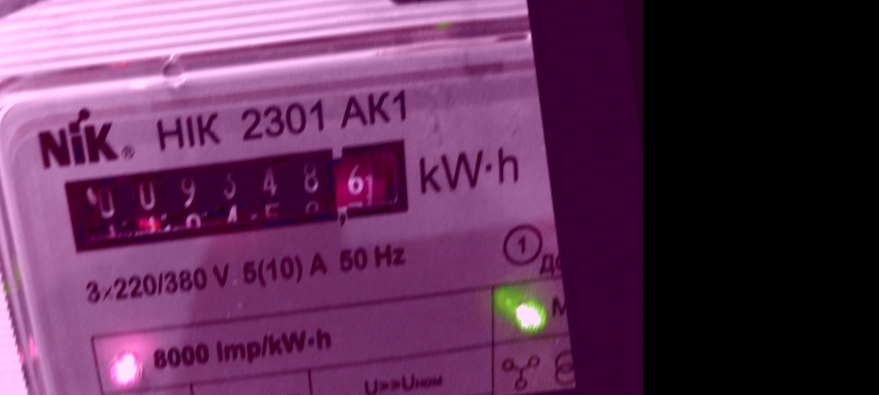0: (132, 174, 157, 213), (91, 182, 116, 219)
3: (213, 165, 239, 199)
4: (253, 160, 278, 199)
6: (340, 159, 367, 195)
8: (296, 157, 320, 193)
9: (174, 170, 197, 206)
screen: (37, 120, 432, 270)
